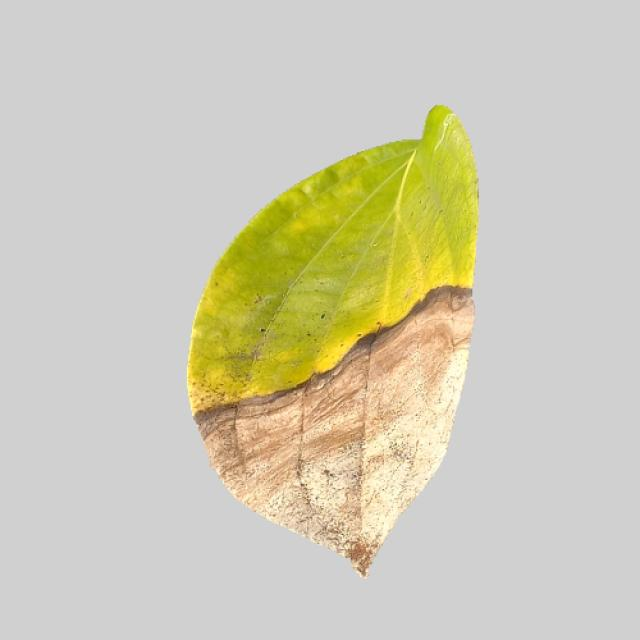leaf-blight: (170, 115, 497, 577)
